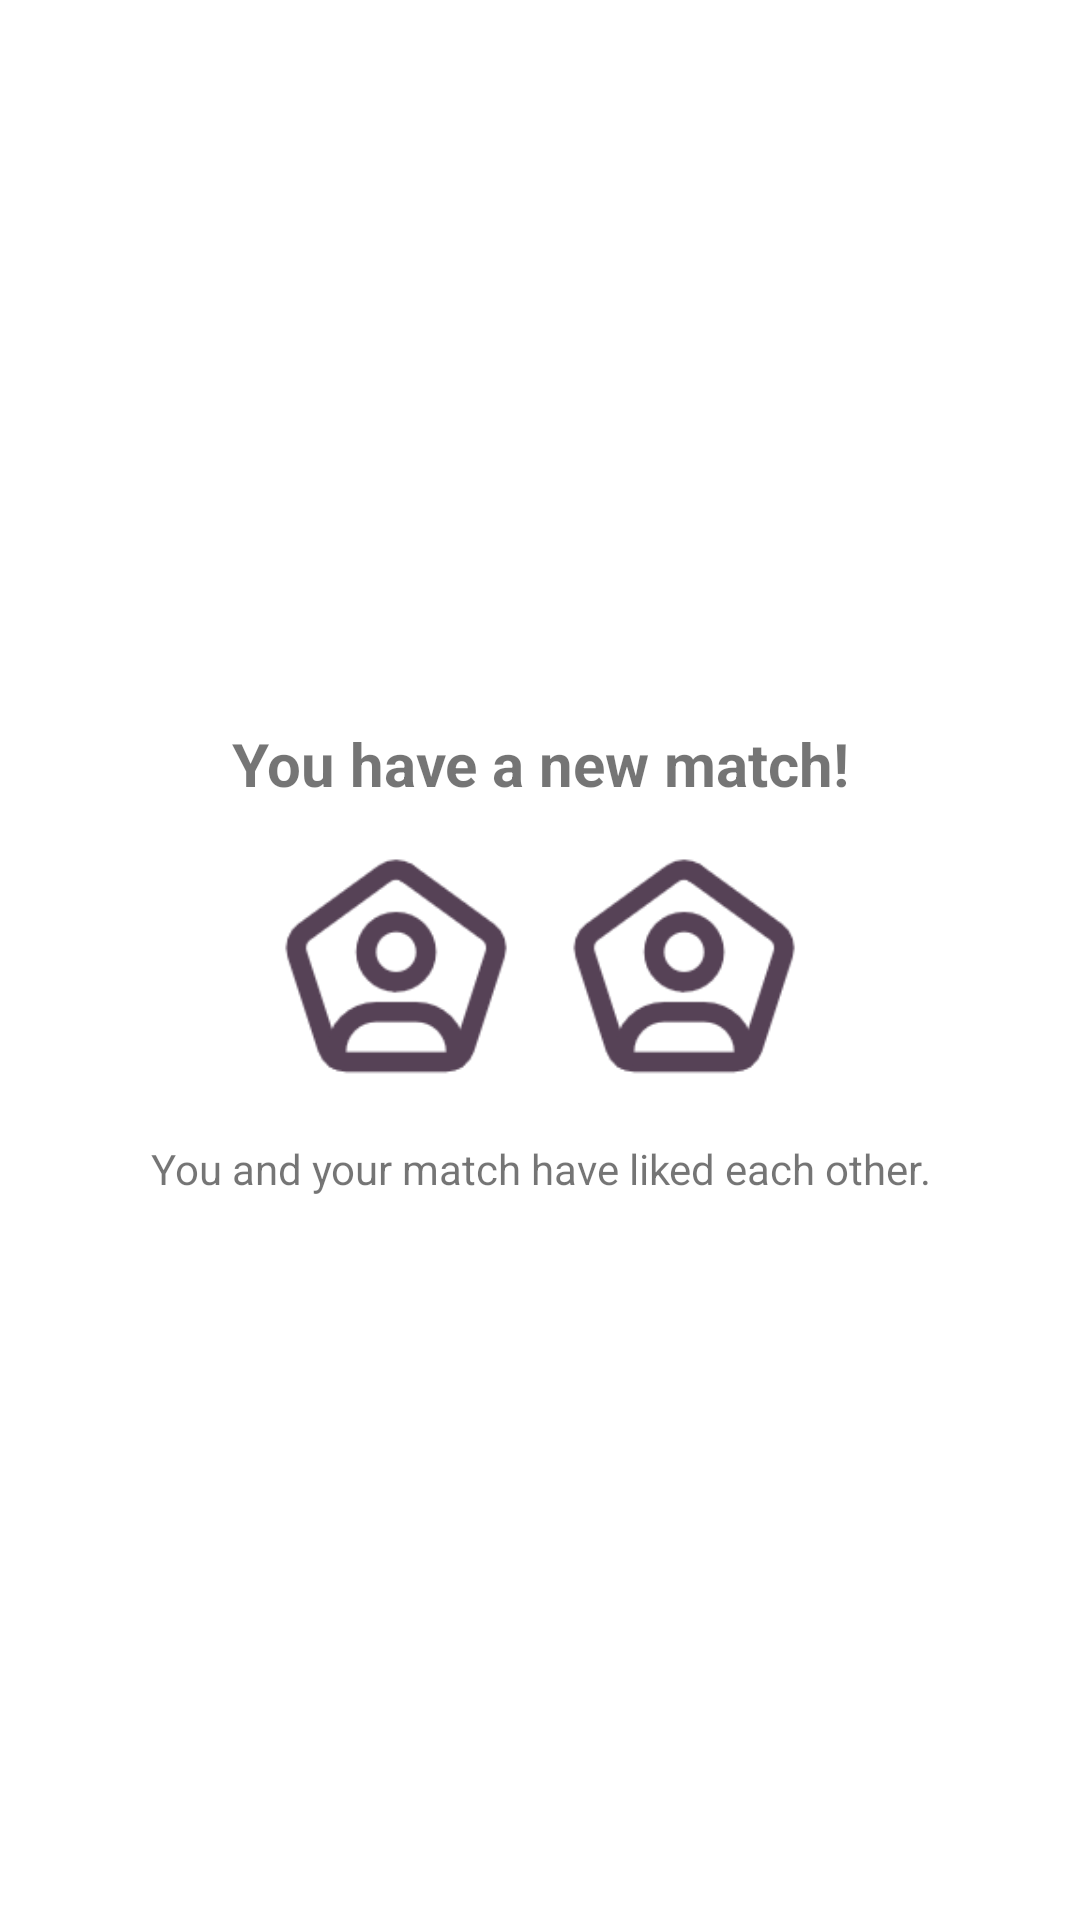

Icon bounding boxes for this 1080x1920 phone screenshot, format (x1, y1, x2, y2):
user profile: (285, 859, 507, 1073), (573, 859, 795, 1073)
